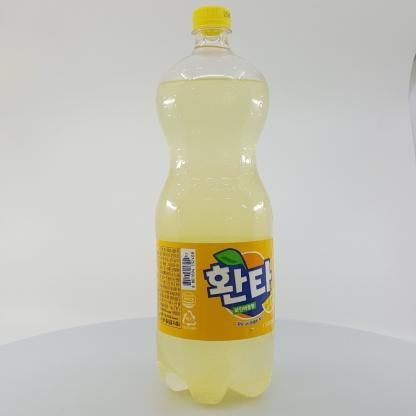--------1-5L: (155, 6, 275, 405)
